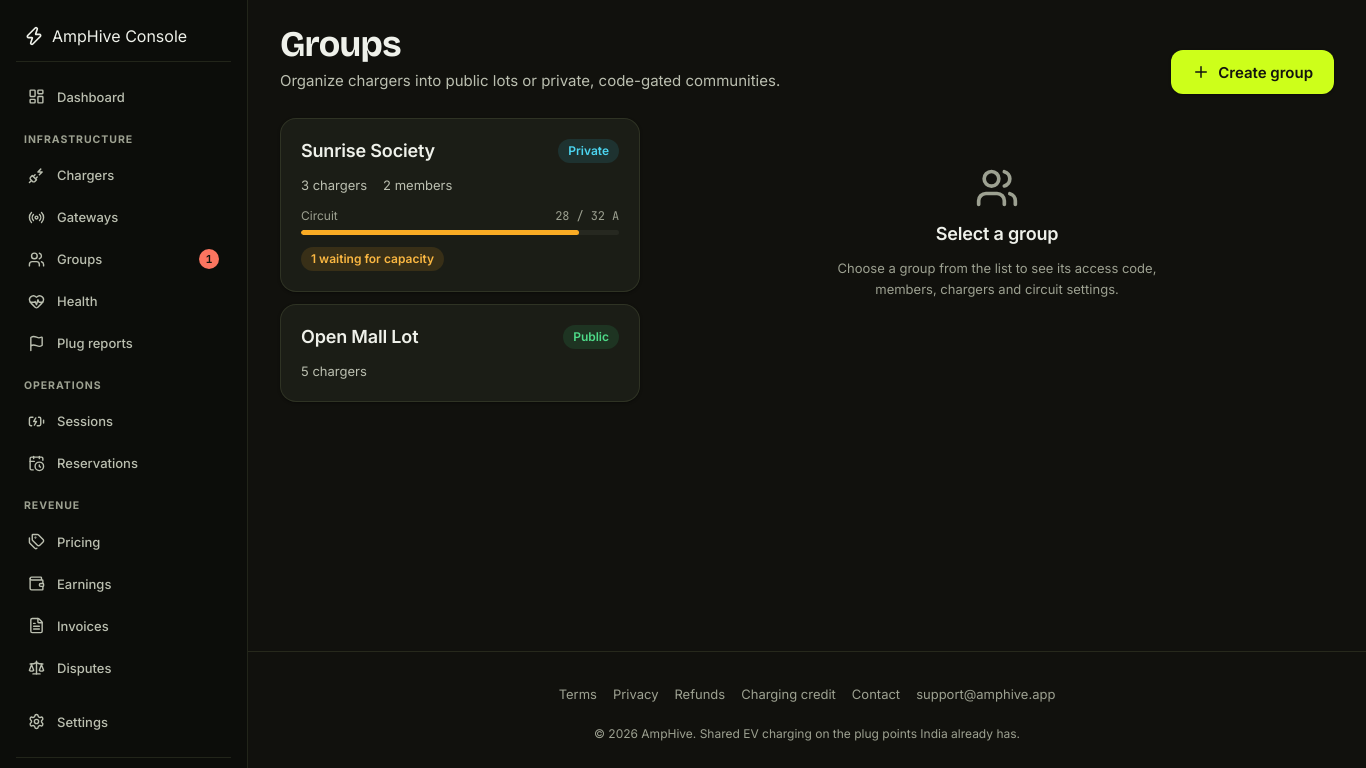
Test case: group detail › degrades to an inline ErrorState when the members endpoint fails
Expected: the heading "Sunrise Society" is shown, [301,139,435,163]
Click the button "Sunrise Society".
click(368, 151)  # box [280,118,640,292]
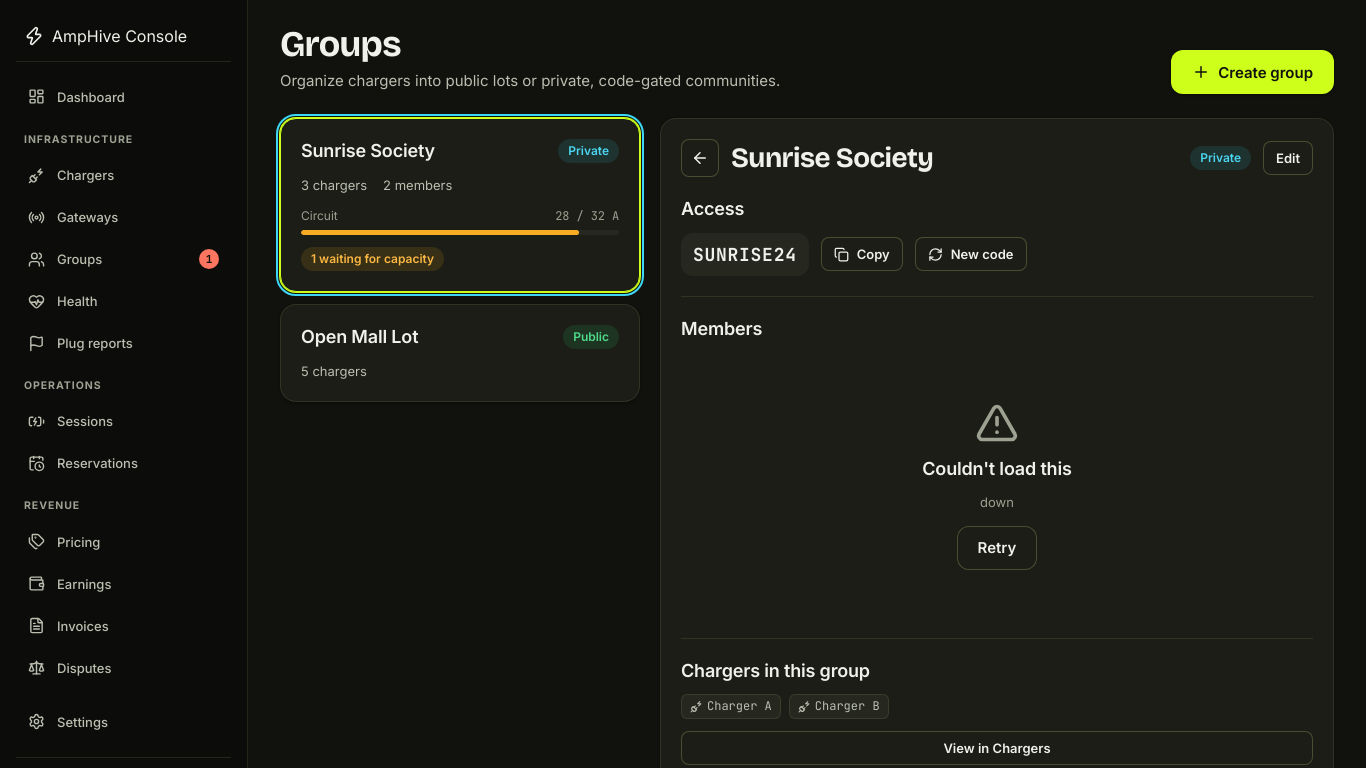
Now the heading "Couldn't load this" is shown, box [922,457,1072,480]
Now the text "SUNRISE24" is shown, box [681,232,809,276]
